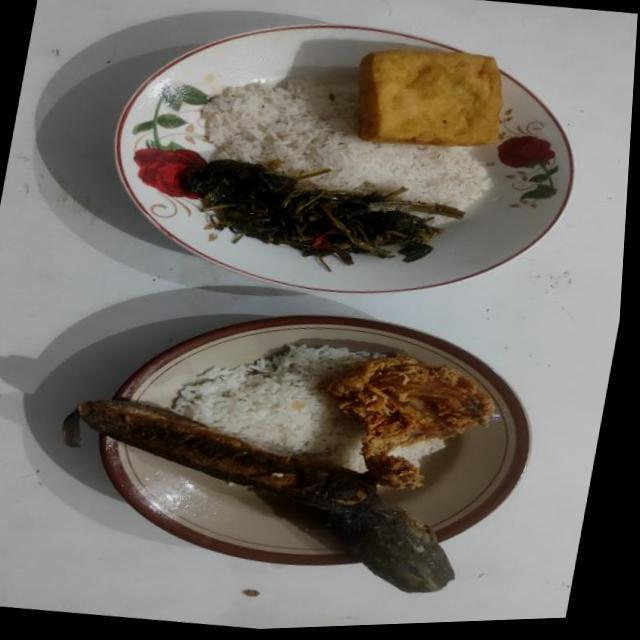nasi_putih: (202, 78, 489, 209), (172, 343, 382, 472), (388, 438, 444, 467)
tahu_goreng: (357, 51, 502, 146)
tumis_kangkung: (181, 159, 464, 271)
